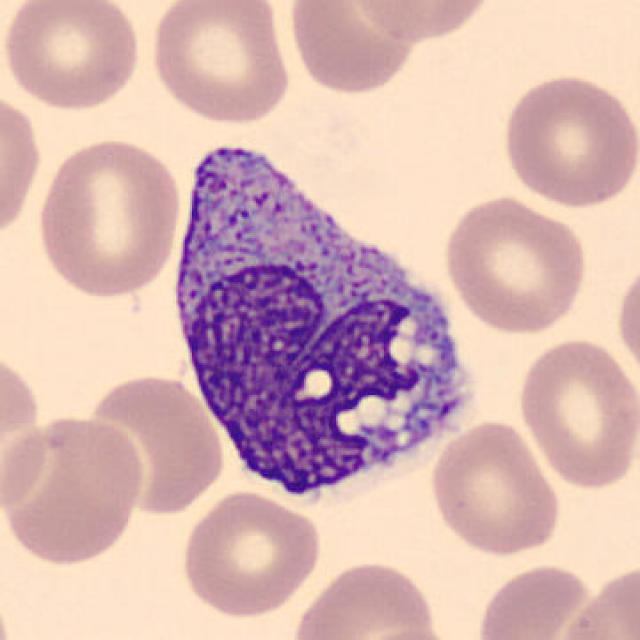Monocyte: (164, 127, 487, 517)
RBC: (32, 134, 185, 301), (2, 411, 148, 568), (78, 368, 228, 516), (439, 192, 592, 337), (512, 333, 636, 494), (498, 69, 638, 210), (426, 416, 564, 559), (176, 488, 324, 620), (146, 0, 293, 127), (0, 0, 146, 113), (284, 0, 425, 97), (288, 557, 444, 640), (471, 559, 605, 640), (0, 358, 61, 528), (553, 559, 640, 640), (0, 86, 44, 246), (346, 0, 497, 42), (611, 254, 640, 388), (350, 626, 466, 640)
